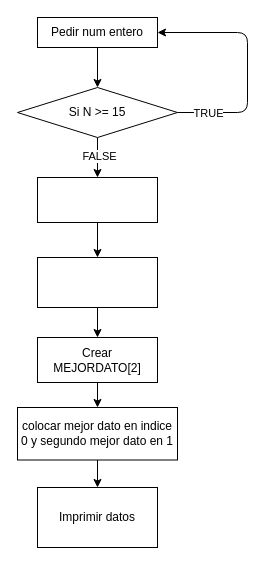
The diagram is 273 pixels wide and 565 high, and some of its shapes have lost their labels. The box of each missing label's shape, as (x1, y1, x2, y2) in pixels:
Ingresar valores del conjunto DATO: (36, 256, 158, 308)
Pedir cantidad N del conjunto DATO: (36, 176, 158, 222)
